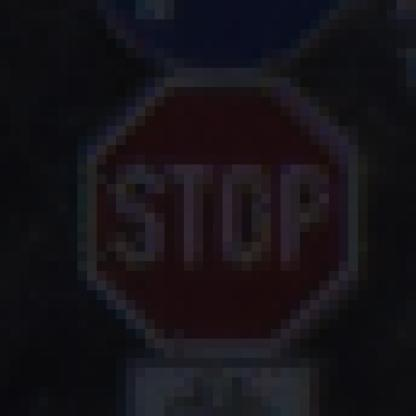Stop: (86, 78, 356, 349)
